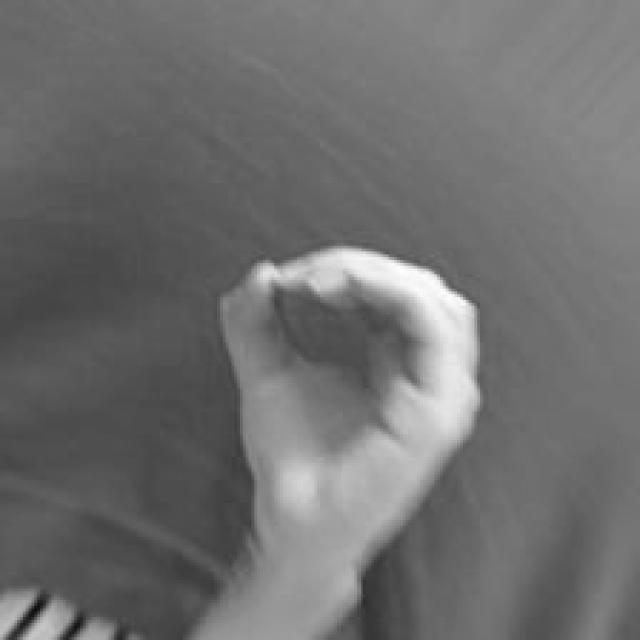O: (214, 238, 484, 640)
